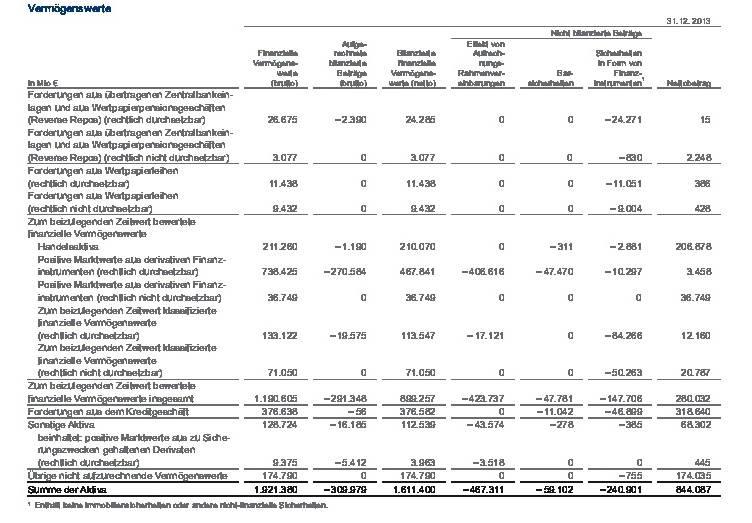table: (0, 0, 752, 523)
